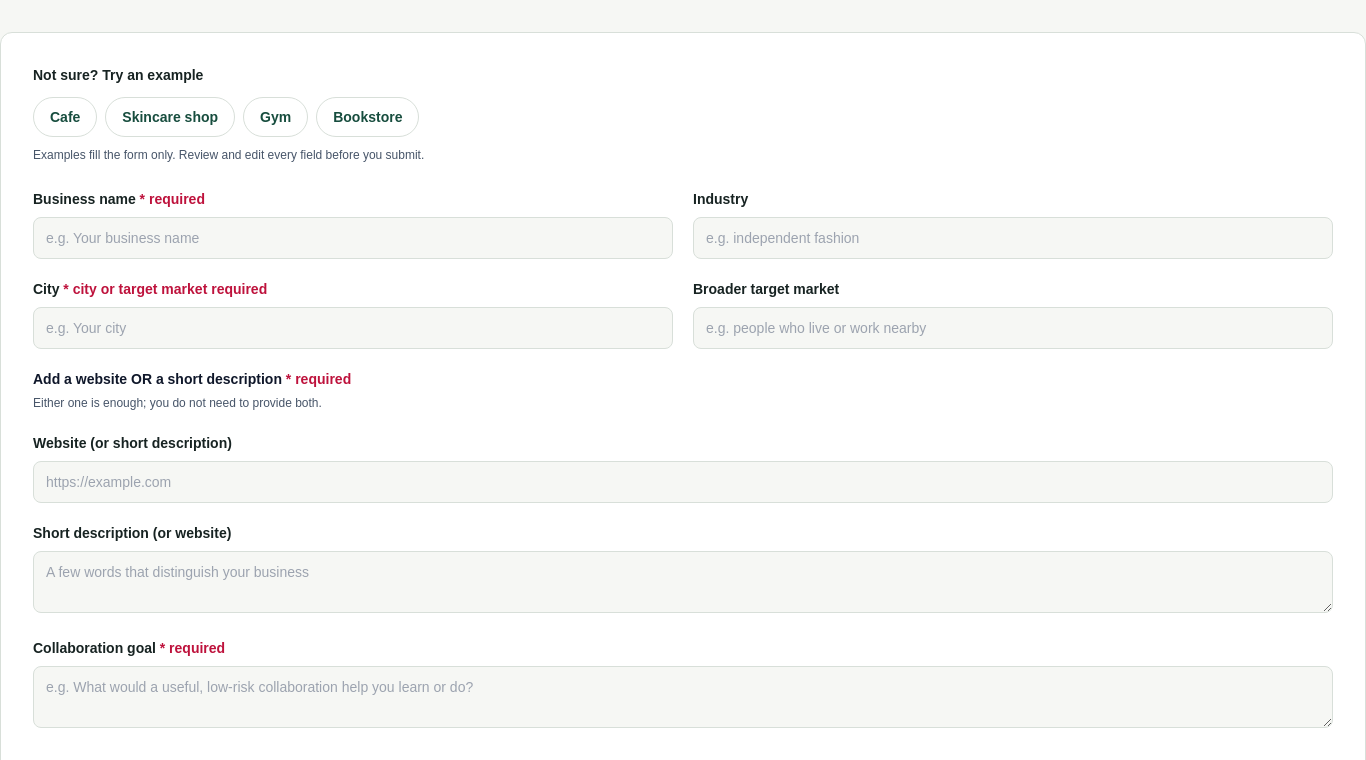
Test: business brief form › fills every field from the Skincare shop example without submitting
Click the button "Skincare shop" at (170,117), box 105,97 -> 235,137
(page scrolled)
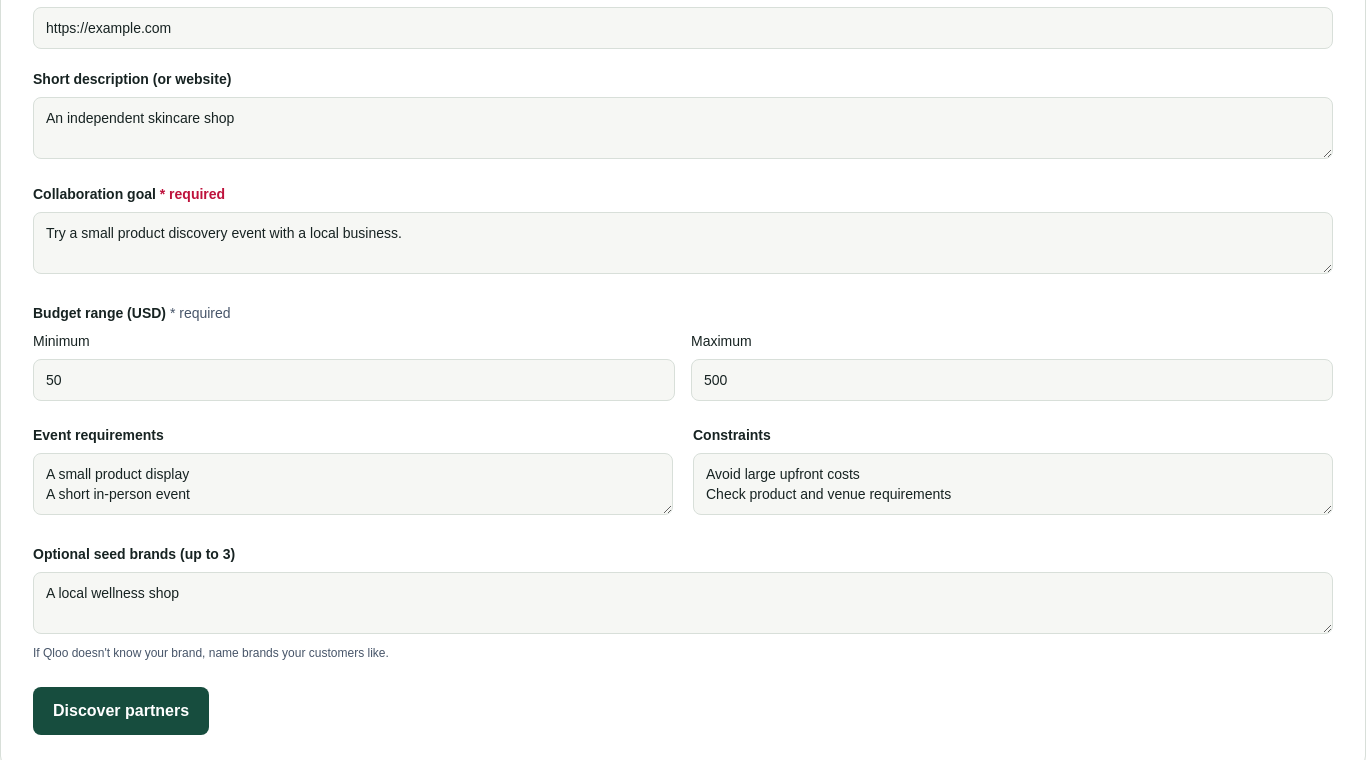
Expected: the field labelled "Website (or short description)" holds "https://example.com", 33,7 -> 1333,49
Expected: the text box labelled "Short description (or website)" holds "An independent skincare shop", 33,97 -> 1333,159
Expected: the text box labelled "Collaboration goal * required" holds "Try a small product discovery event with a local business.", 33,212 -> 1333,274
